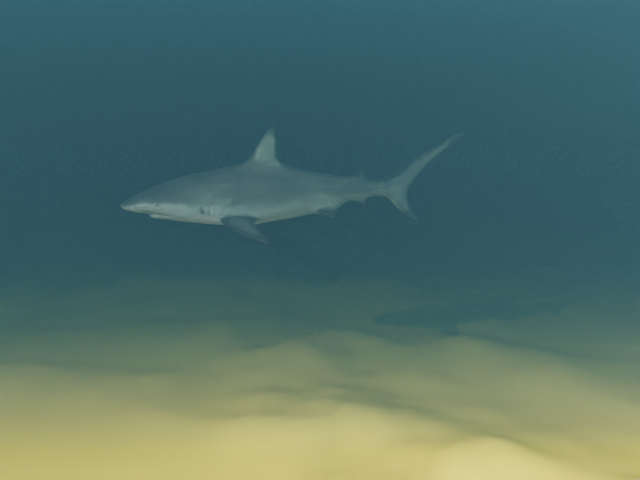Carribean Shark.001: (120, 127, 464, 242)
